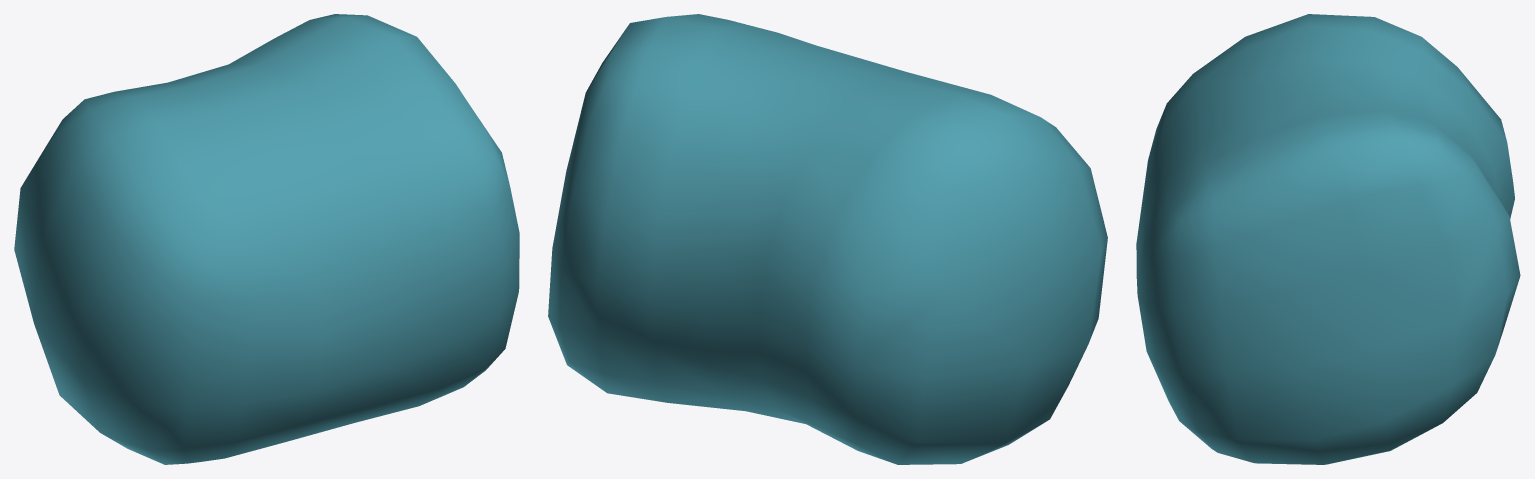
File: VIS_Alpha_Surface_043.dae
The picture shows the model from 3 angles, left to right: view 1: azimuth 30°, elevation 25°; view 2: azimuth 150°, elevation 25°; view 3: azimuth 270°, elevation 25°; orthographic projection. The views are drawn at different scales.
Parts seen in each view (by area): view 1: VIS_Alpha_Surface_043; view 2: VIS_Alpha_Surface_043; view 3: VIS_Alpha_Surface_043.
Part boxes in pixels (x1=…): VIS_Alpha_Surface_043: x1=14, y1=14, x2=519, y2=464; VIS_Alpha_Surface_043: x1=548, y1=14, x2=1107, y2=464; VIS_Alpha_Surface_043: x1=1136, y1=14, x2=1520, y2=464.
Bounding box in the file's own units: 0.0285 × 0.0225 × 0.0216.
